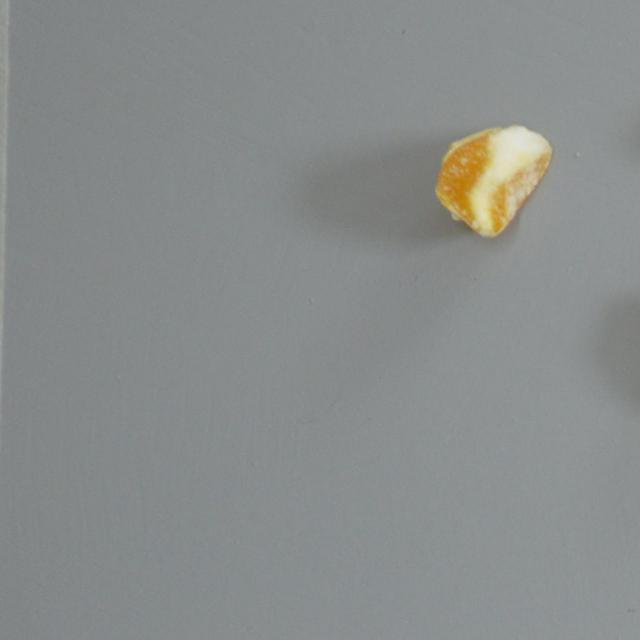dañado: (432, 112, 556, 243)
